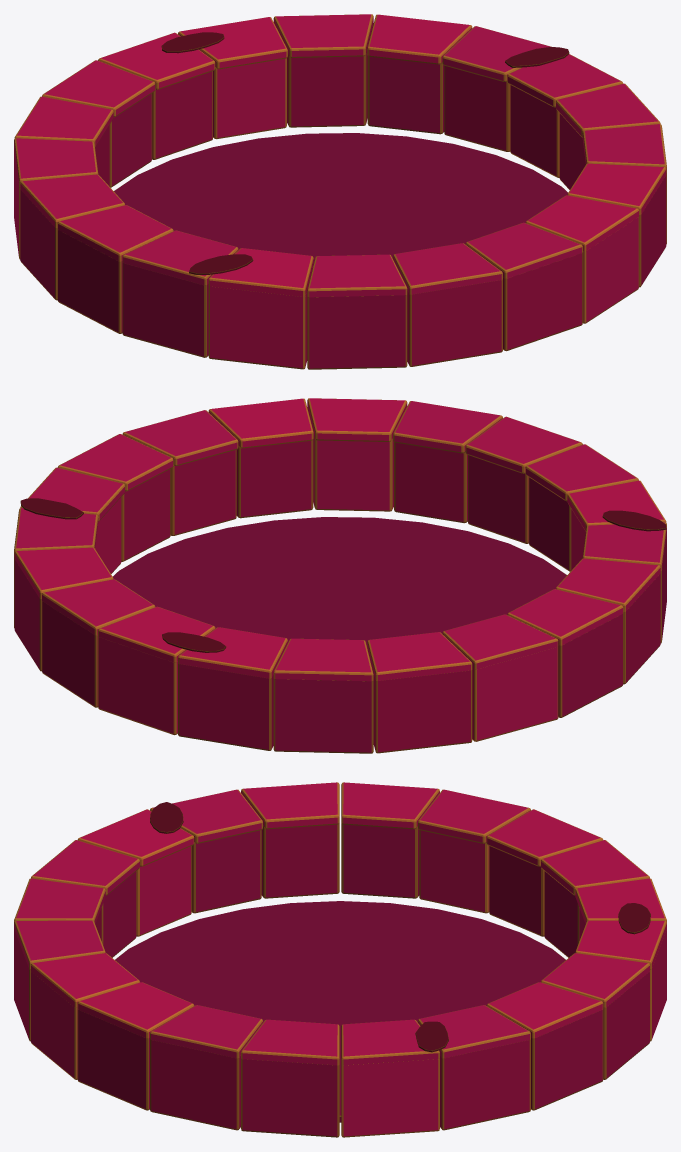
Rendered from SM_RV_Basin.fbx.
3 views of the same model, one above another, from view 1: azimuth 30°, elevation 25°; view 2: azimuth 150°, elevation 25°; view 3: azimuth 270°, elevation 25° (orthographic).
Parts seen in each view (by area): view 1: SM_RV_Basin; view 2: SM_RV_Basin; view 3: SM_RV_Basin.
Part boxes in pixels (x1,y1,x2,y2): SM_RV_Basin: [14, 14, 666, 369]; SM_RV_Basin: [14, 398, 666, 753]; SM_RV_Basin: [14, 782, 666, 1137].
Size of what is drawn, in the model's own units: 599 by 599 by 98.8.
